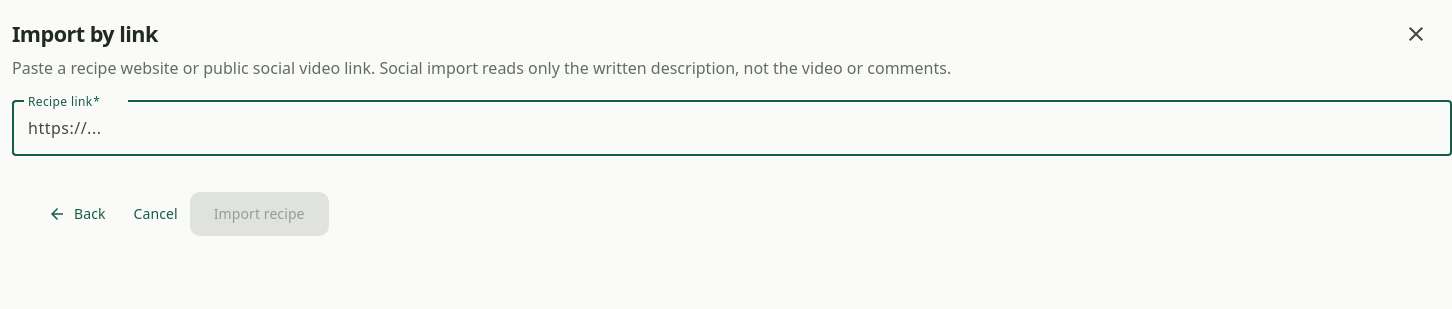
Test: Recipe import dialog feedback › keeps import failure feedback above the action buttons and allows a retry
Step 1. Type "https://example.com/recipe" into the field labelled "Recipe link" → (732, 128), box x1=28 y1=116 x2=1436 y2=140
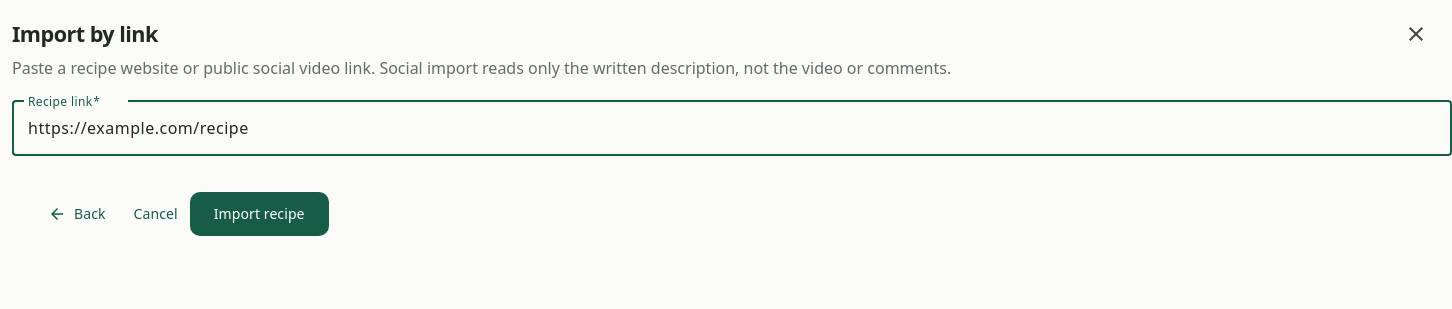
Step 2. Click the submit button → click(259, 214), box x1=190 y1=192 x2=329 y2=236
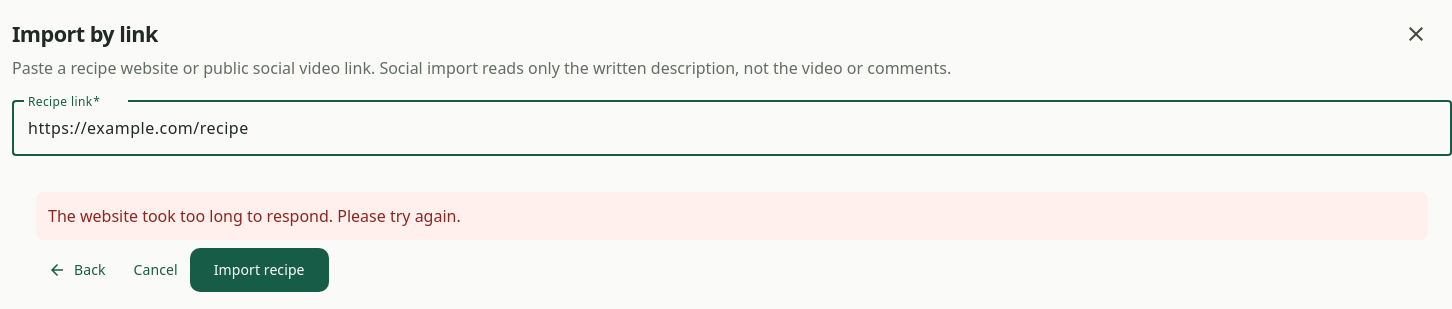
Expected: the message "The website took too long to respond. Please try again." is shown, x1=36 y1=192 x2=1428 y2=240
